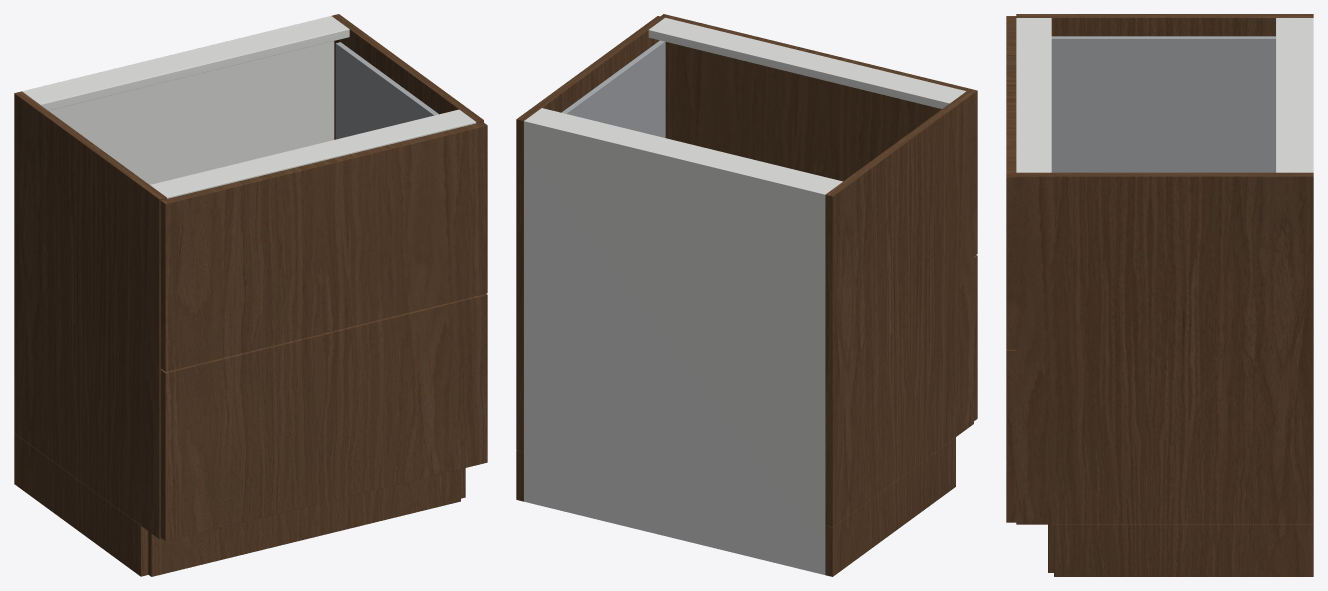
Rendered from bvc-2154.glb.
3 views of the same model, side by side, from view 1: azimuth 30°, elevation 25°; view 2: azimuth 150°, elevation 25°; view 3: azimuth 270°, elevation 25° (orthographic). The views are drawn at different scales.
Parts seen in each view (by area): view 1: Drawer front.001, Drawer front, Cabinet side, Cabinet back, Recessed toe board, Top support rail, Recessed side plinth, Top support rail.001, Drawer side.003, Cabinet side.001; view 2: Cabinet back, Cabinet side, Drawer front.001, Top support rail.001, Recessed side plinth, Cabinet side.001, Drawer side.003, Top support rail, Drawer front; view 3: Cabinet side.001, Drawer side.002, Recessed side plinth.001, Top support rail.001, Cabinet side, Top support rail, Drawer front.001, Drawer front, Cabinet back.
Boxes of the visible parts, x1=… form: Drawer front.001: x1=160, y1=122, x2=487, y2=371; Drawer front: x1=160, y1=293, x2=487, y2=540; Cabinet side: x1=14, y1=91, x2=166, y2=538; Cabinet back: x1=22, y1=16, x2=334, y2=184; Recessed toe board: x1=148, y1=469, x2=460, y2=576; Top support rail: x1=24, y1=18, x2=349, y2=110; Recessed side plinth: x1=14, y1=433, x2=148, y2=576; Top support rail.001: x1=150, y1=109, x2=476, y2=198; Drawer side.003: x1=335, y1=42, x2=438, y2=139; Cabinet side.001: x1=332, y1=14, x2=483, y2=139; Cabinet back: x1=524, y1=119, x2=827, y2=574; Cabinet side: x1=825, y1=91, x2=973, y2=527; Drawer front.001: x1=660, y1=14, x2=977, y2=256; Top support rail.001: x1=648, y1=17, x2=966, y2=108; Recessed side plinth: x1=825, y1=437, x2=955, y2=576; Cabinet side.001: x1=516, y1=16, x2=664, y2=451; Drawer side.003: x1=561, y1=40, x2=665, y2=137; Top support rail: x1=526, y1=108, x2=842, y2=192; Drawer front: x1=974, y1=255, x2=977, y2=420; Cabinet side.001: x1=1016, y1=172, x2=1313, y2=524; Drawer side.002: x1=1051, y1=36, x2=1275, y2=172; Recessed side plinth.001: x1=1054, y1=524, x2=1313, y2=576; Top support rail.001: x1=1016, y1=18, x2=1051, y2=172; Cabinet side: x1=1016, y1=14, x2=1313, y2=36; Top support rail: x1=1276, y1=18, x2=1310, y2=172; Drawer front.001: x1=1006, y1=16, x2=1016, y2=349; Drawer front: x1=1006, y1=349, x2=1016, y2=522; Cabinet back: x1=1308, y1=18, x2=1313, y2=172.
Size of the model in its own units: 0.762 by 0.8763 by 0.6096.
3 materials, 1 textured.
